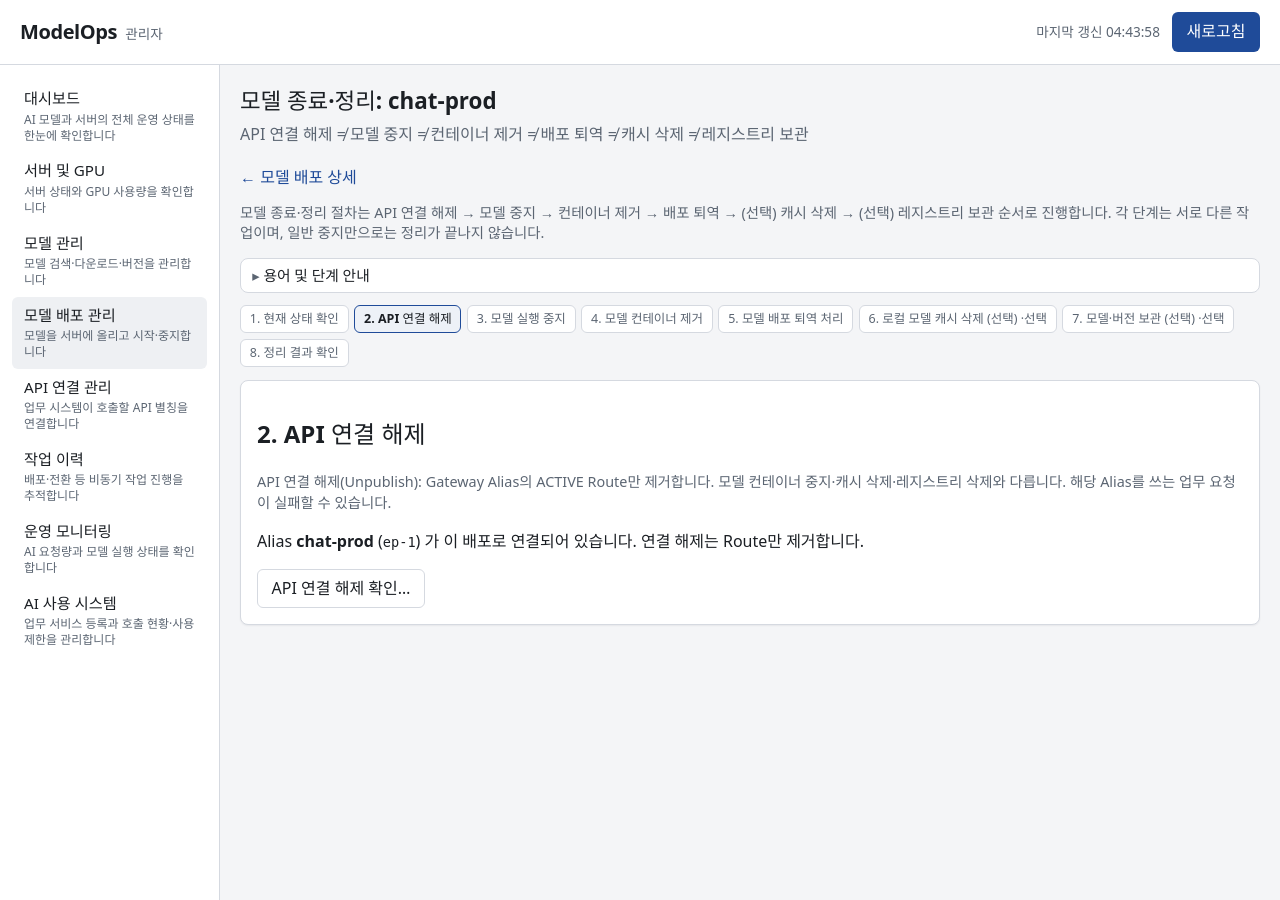
Test case: DecommissionWizardPage › revalidates before Unpublish and aborts when status goes stale
Click the button "API 연결 해제 확인…".
click(341, 588)  # box [257,569,425,608]
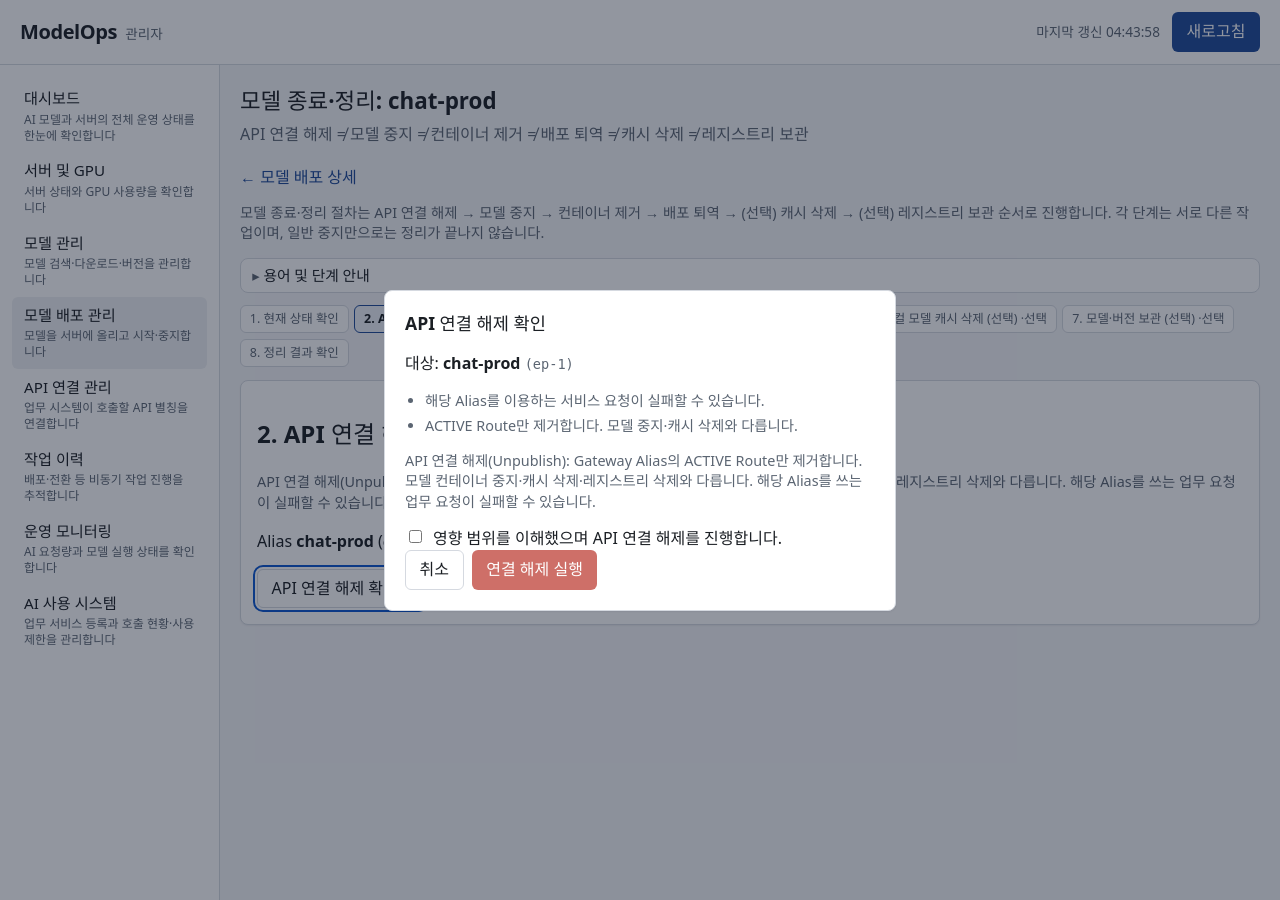
Click the checkbox.
click(416, 536)  # box [409,530,422,543]
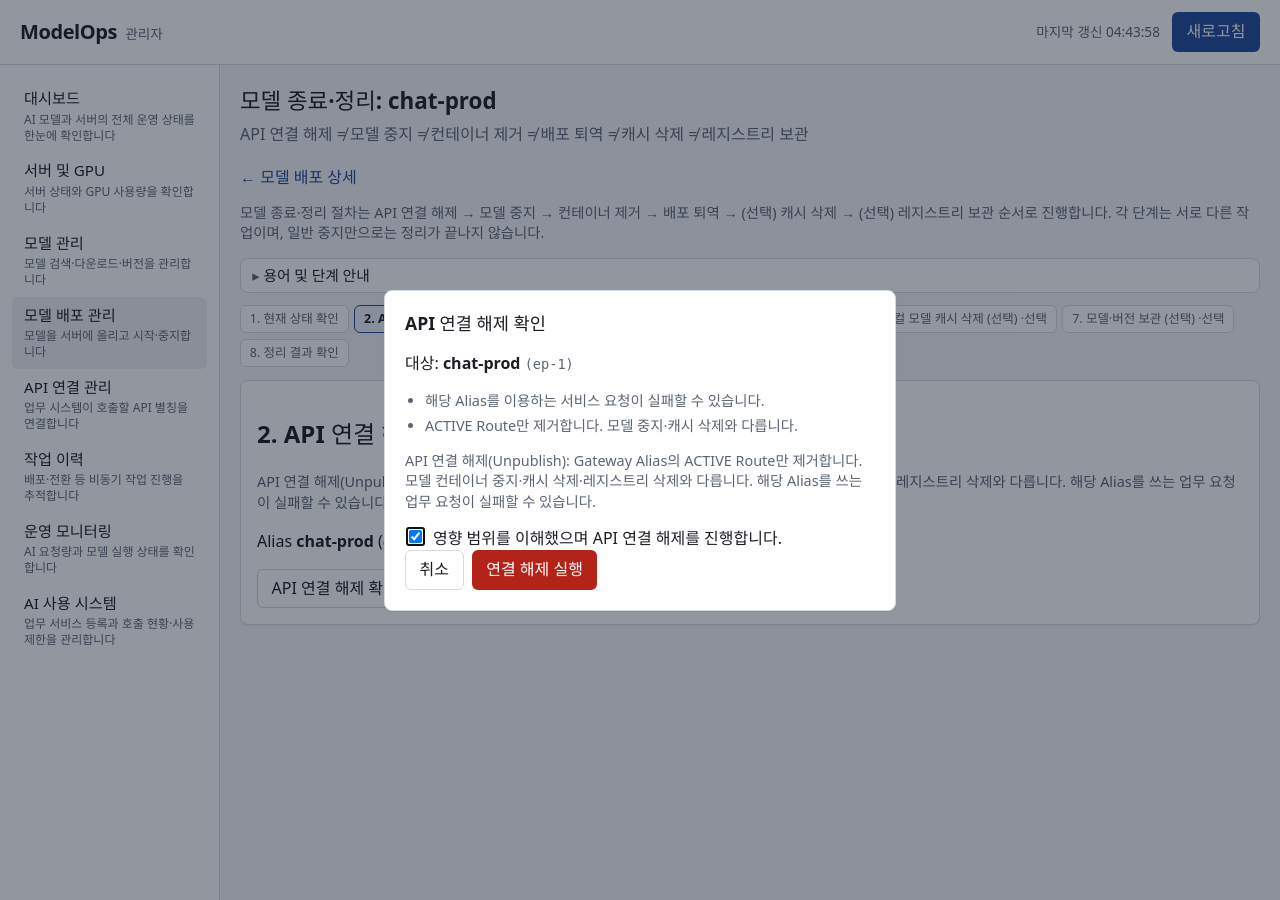
Click the button "연결 해제 실행".
click(534, 570)  # box [472,550,597,590]
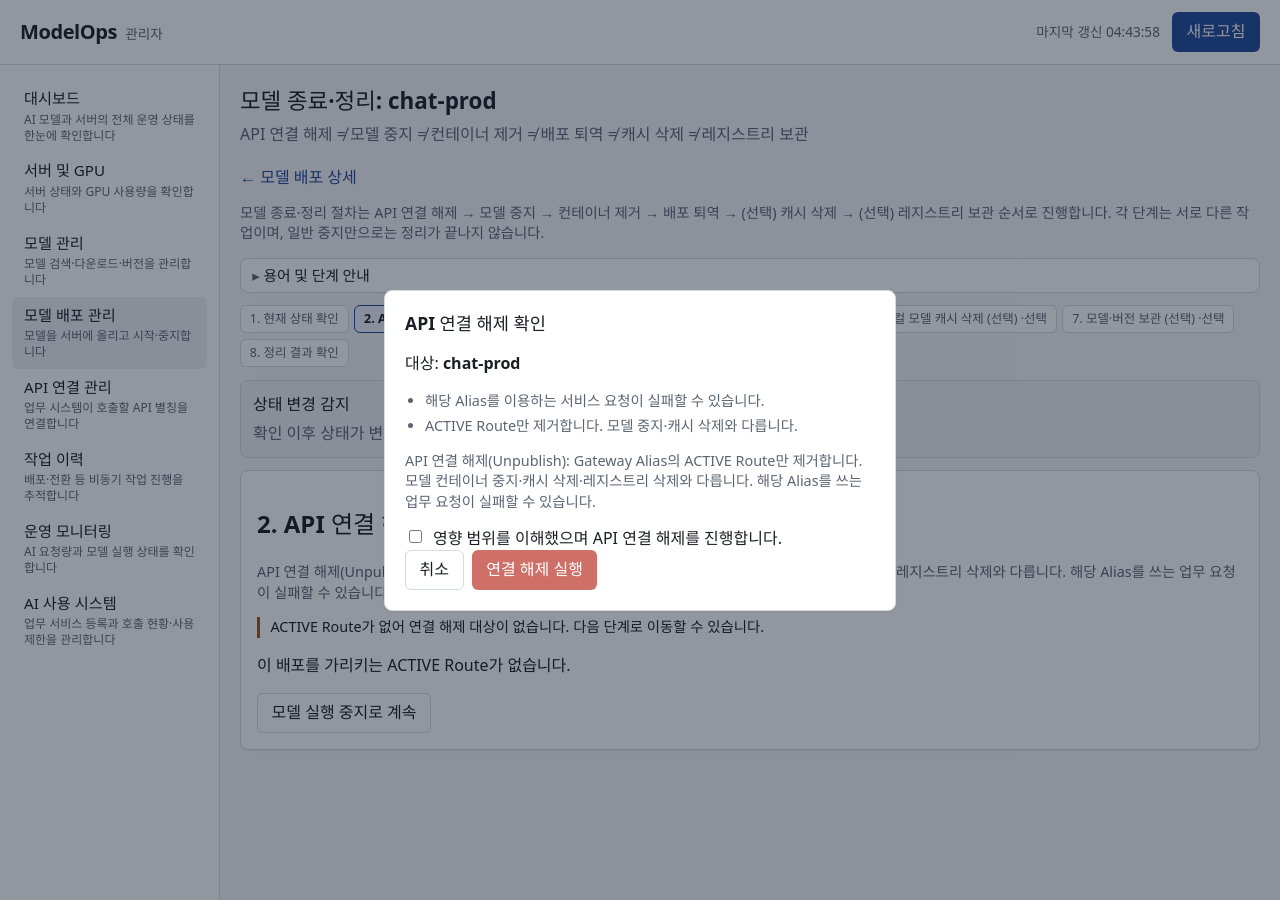
expect the text "확인 이후 상태가 변경되었습니다. 최신 내용을 다시 확인한 뒤 동의해 주세요." is shown: met, box [253,422,760,444]
